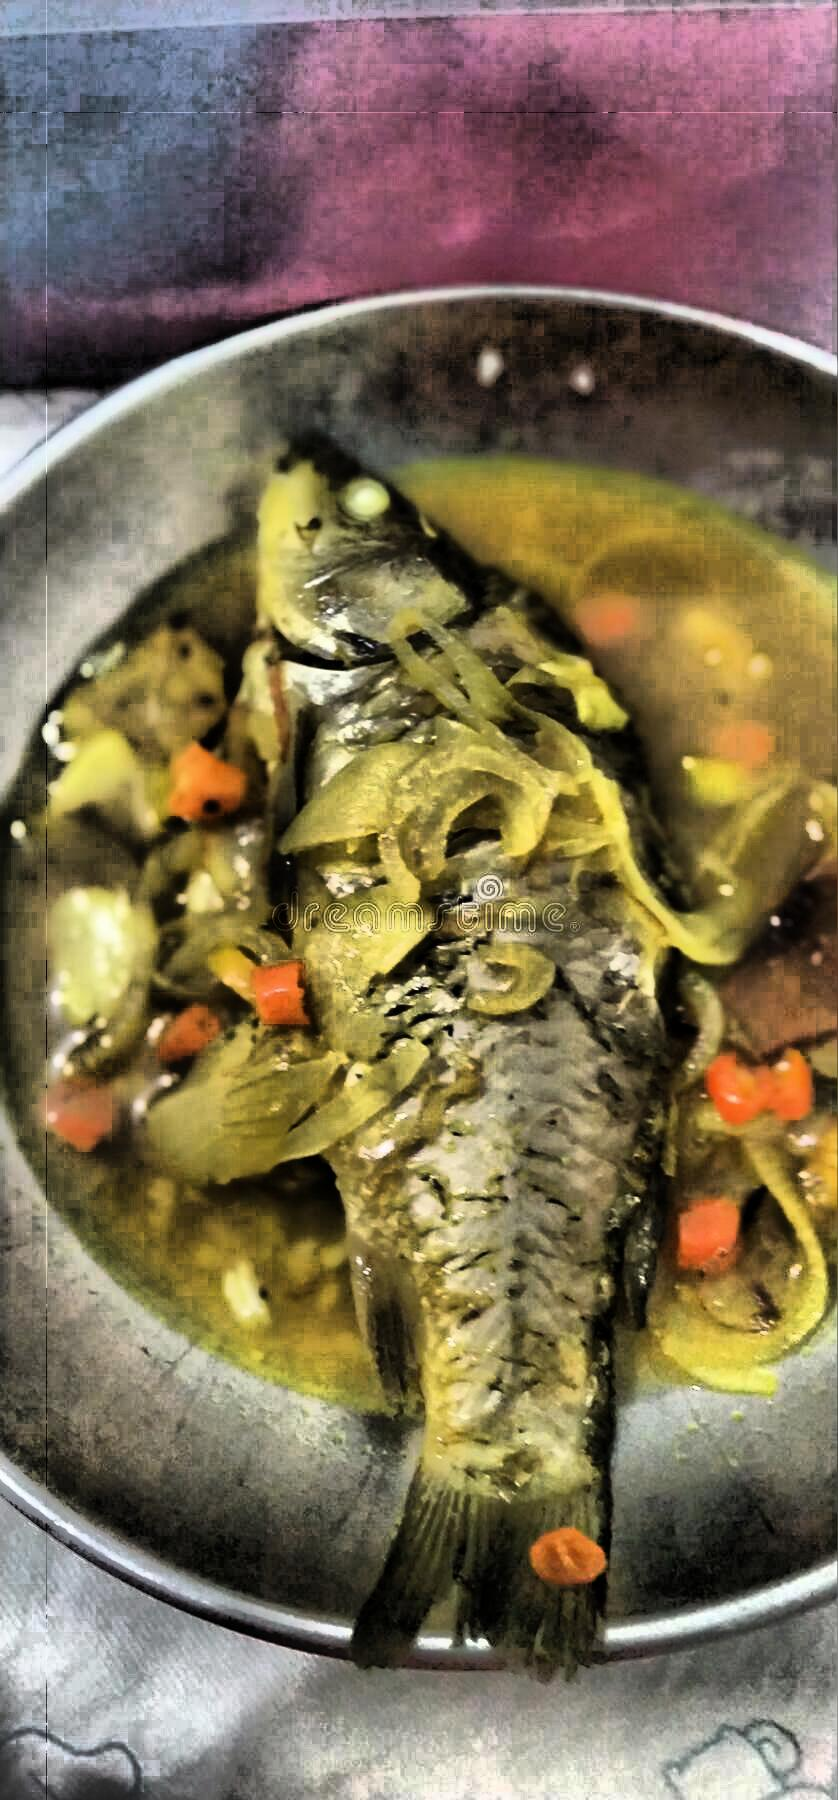fish: (171, 370, 838, 1756)
